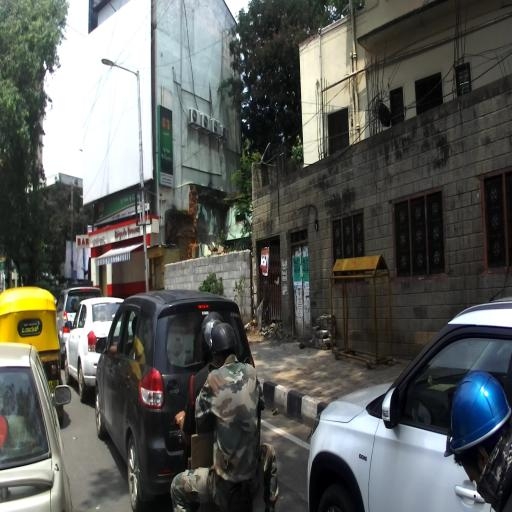street_light_0: (100, 58, 141, 79)
